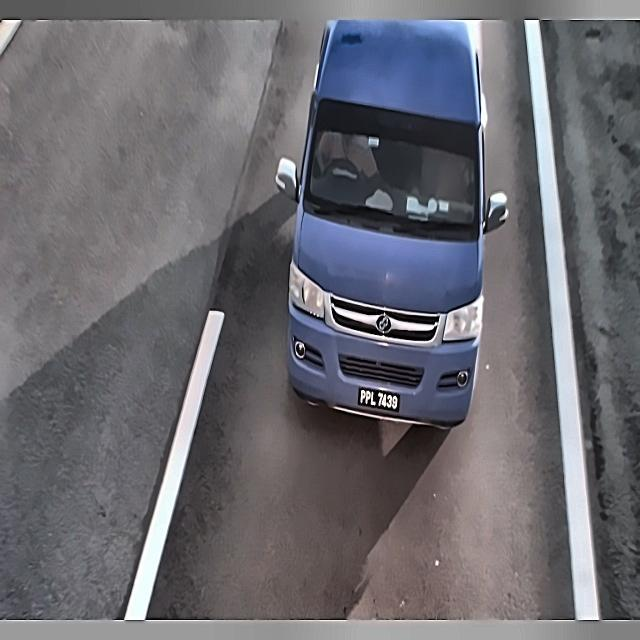car: (355, 372, 406, 421)
